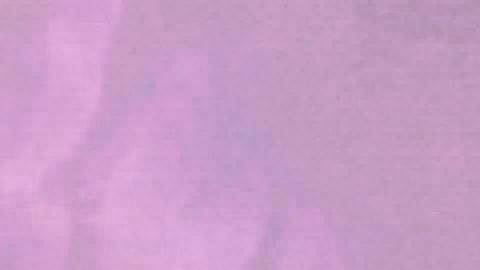tomato: (338, 73, 477, 268), (126, 125, 285, 268), (1, 115, 126, 268)
